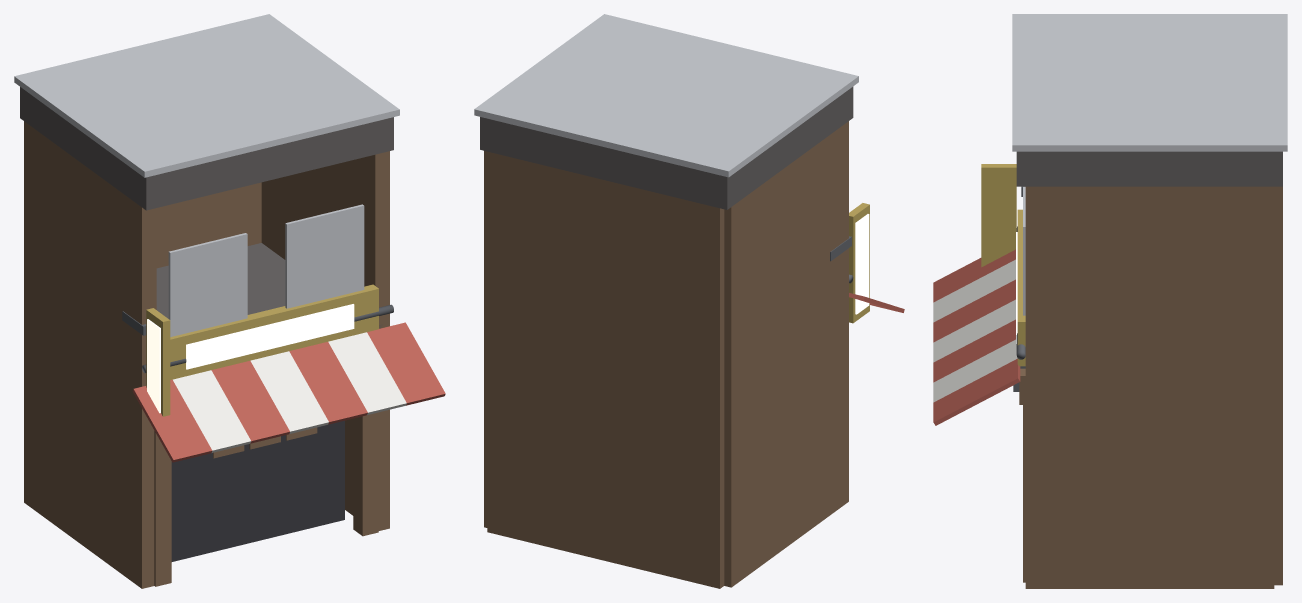
File: prop_shop_kissa.glb
3 renders of one model, left to right at view 1: azimuth 30°, elevation 25°; view 2: azimuth 150°, elevation 25°; view 3: azimuth 270°, elevation 25°, orthographic. The views are drawn at different scales.
Visible parts, largest first — view 1: shop_kissa; view 2: shop_kissa; view 3: shop_kissa.
Boxes of the visible parts, x1,y1,x2,y2 form: shop_kissa: [14, 14, 445, 588]; shop_kissa: [474, 14, 904, 588]; shop_kissa: [933, 14, 1287, 588].
Size of the model in its own units: 3.73 by 5.54 by 3.99.
